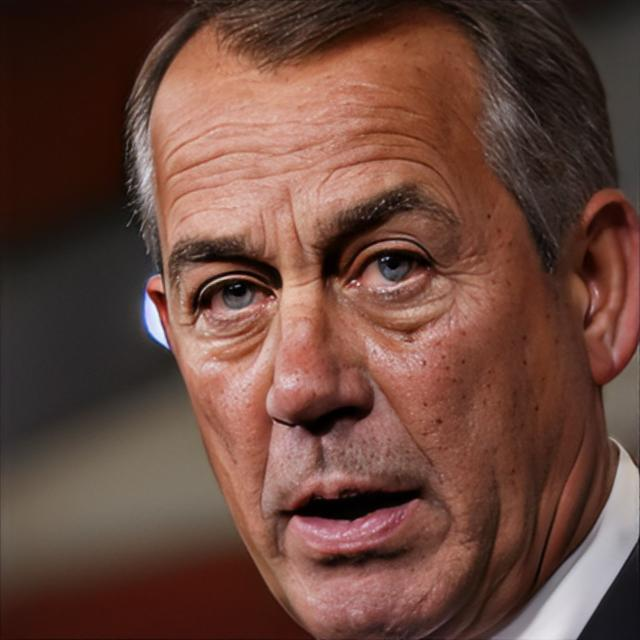disgust: (151, 9, 579, 638)
